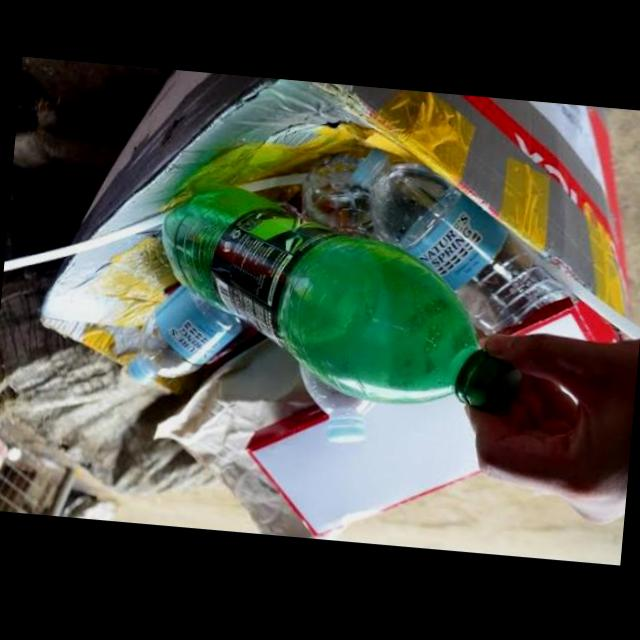carton: (250, 396, 480, 540), (496, 296, 629, 344)
chai_nhua: (161, 181, 522, 412)
chai_nhua_pet: (351, 151, 576, 336), (127, 285, 243, 385), (297, 359, 369, 445), (301, 150, 370, 235)
